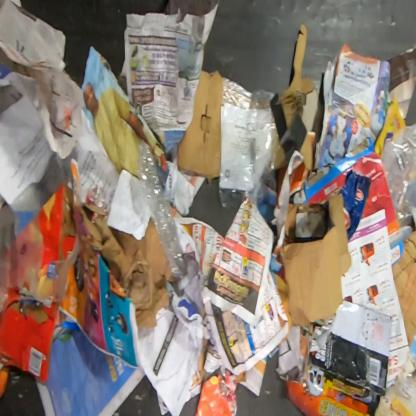cardboard: (0, 182, 78, 386), (285, 300, 393, 415), (292, 136, 400, 244), (278, 192, 352, 328), (177, 68, 223, 178), (276, 22, 314, 129)
rigid_plastic: (137, 138, 186, 280)
soft_plastic: (218, 77, 281, 210), (0, 181, 45, 314), (381, 122, 416, 229)
